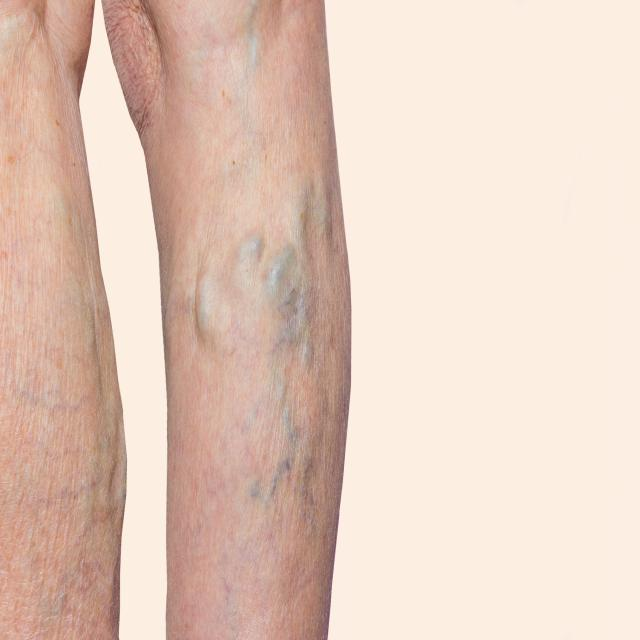Varicose: (124, 112, 416, 587)
